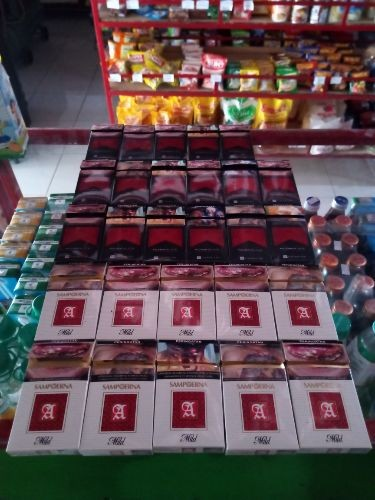A Mild: (284, 345, 370, 449), (221, 342, 296, 451), (157, 342, 224, 449), (84, 343, 152, 447), (5, 356, 81, 447), (269, 265, 339, 341), (33, 263, 100, 340), (215, 263, 276, 341), (103, 264, 158, 342), (161, 264, 215, 341)
